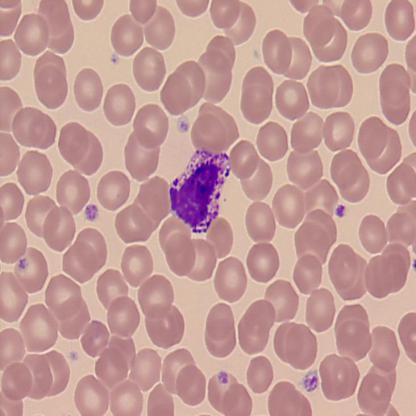Basophil: (168, 146, 233, 234)
